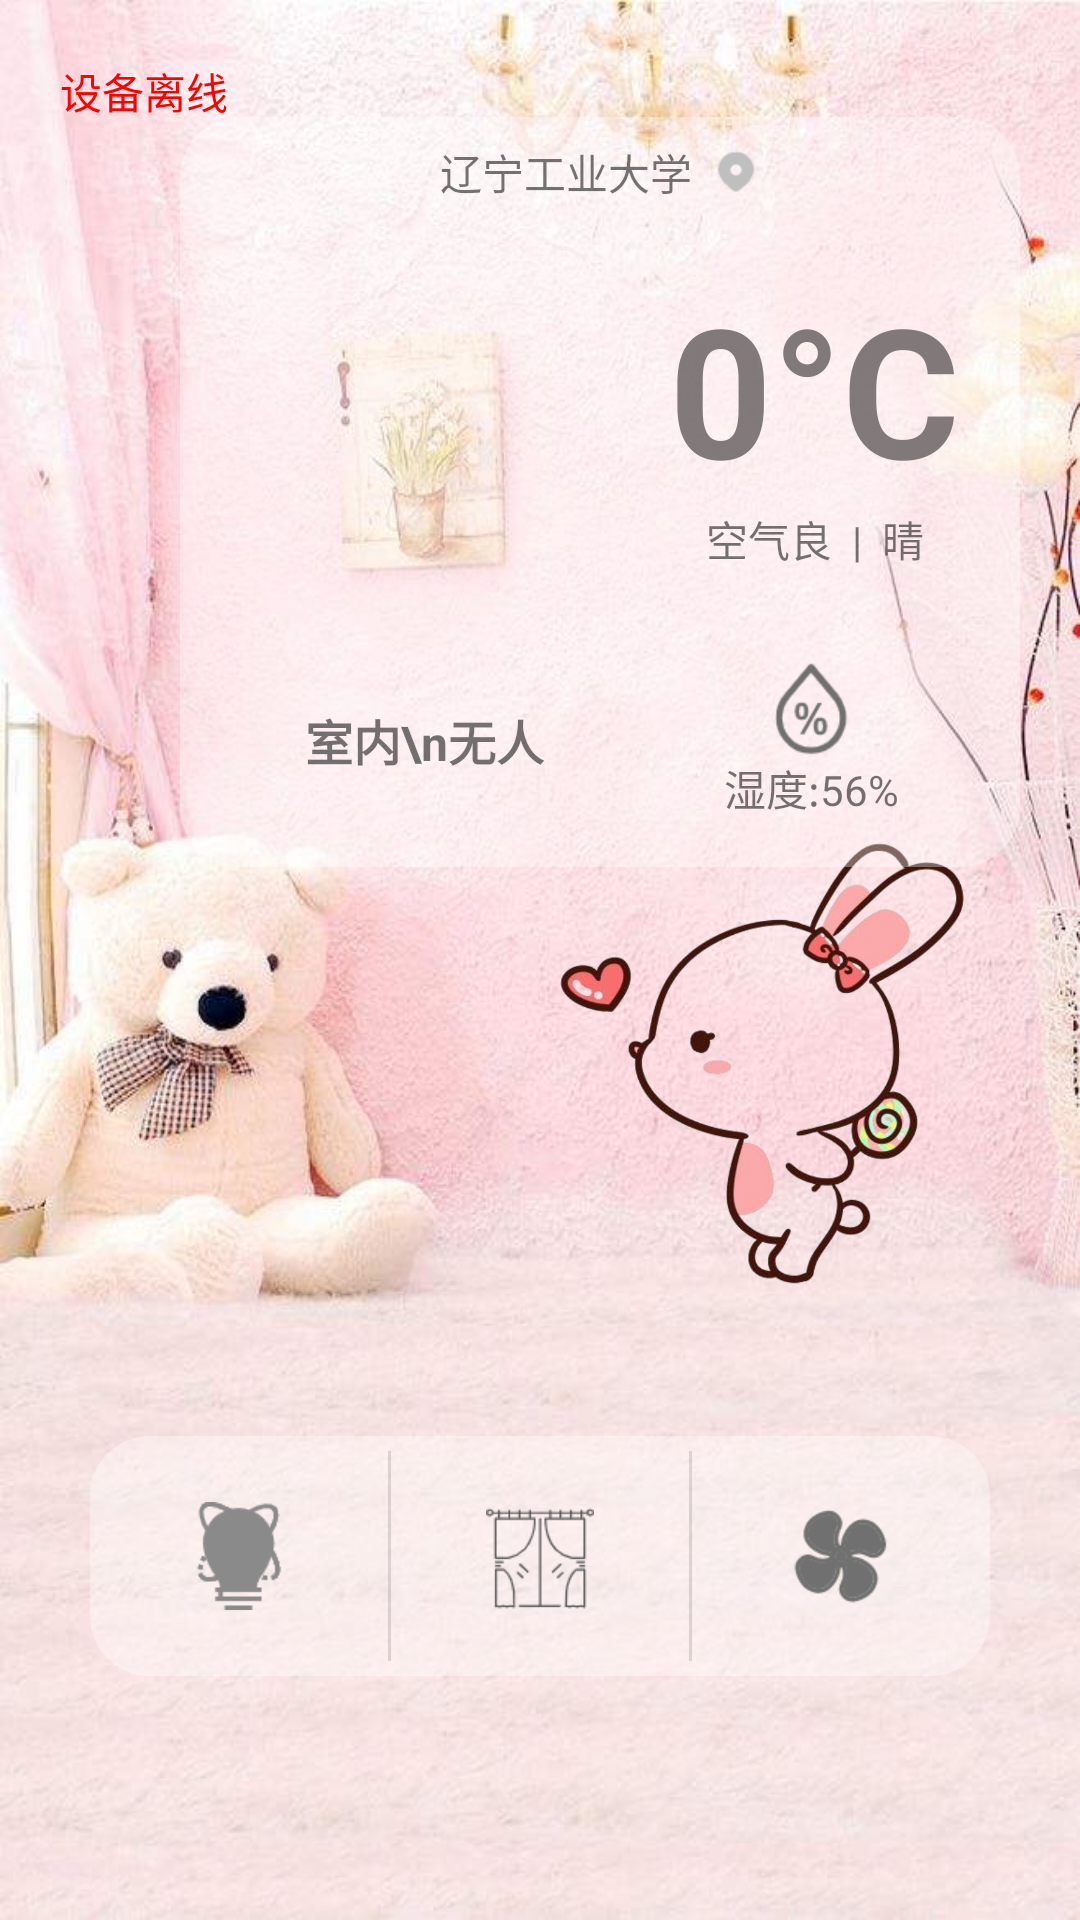

Point at icon controls on the screen. Image size 1080w x 1920h, points as point (x, y).
fun close: point (840, 1556)
window close: point (540, 1558)
